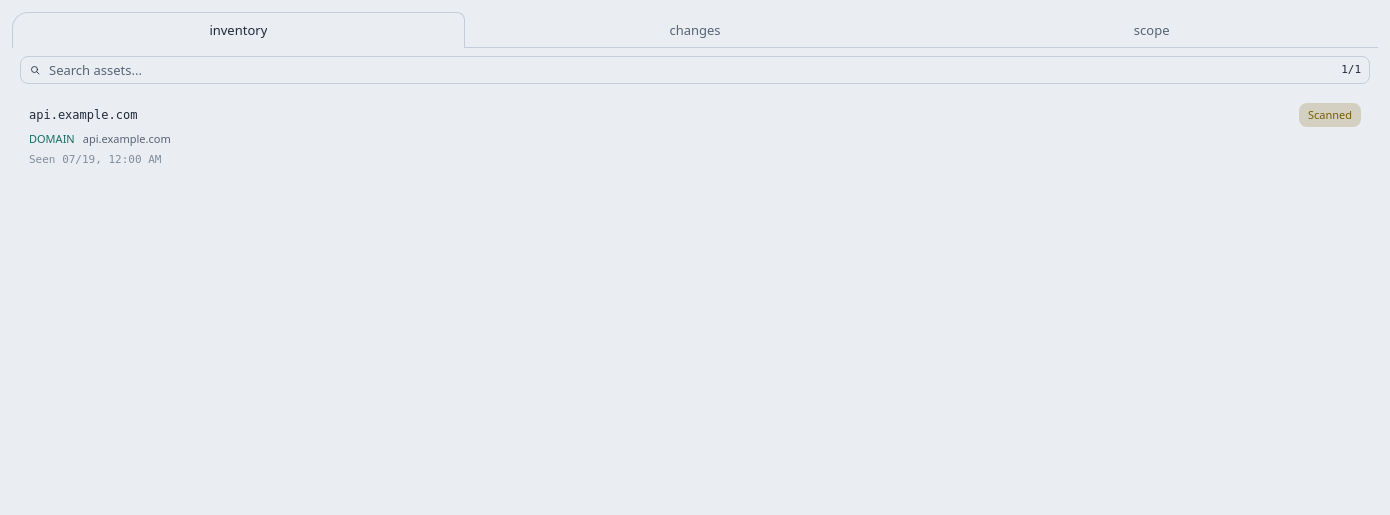
Test case: AssetWorkspaceTab › searches assets and exposes scan changes
Expected: the 1st text "api.example.com" is shown, [29, 108, 137, 122]
Focus the field named "Search assets" at {"x": 691, "y": 70}, box [49, 57, 1333, 83]
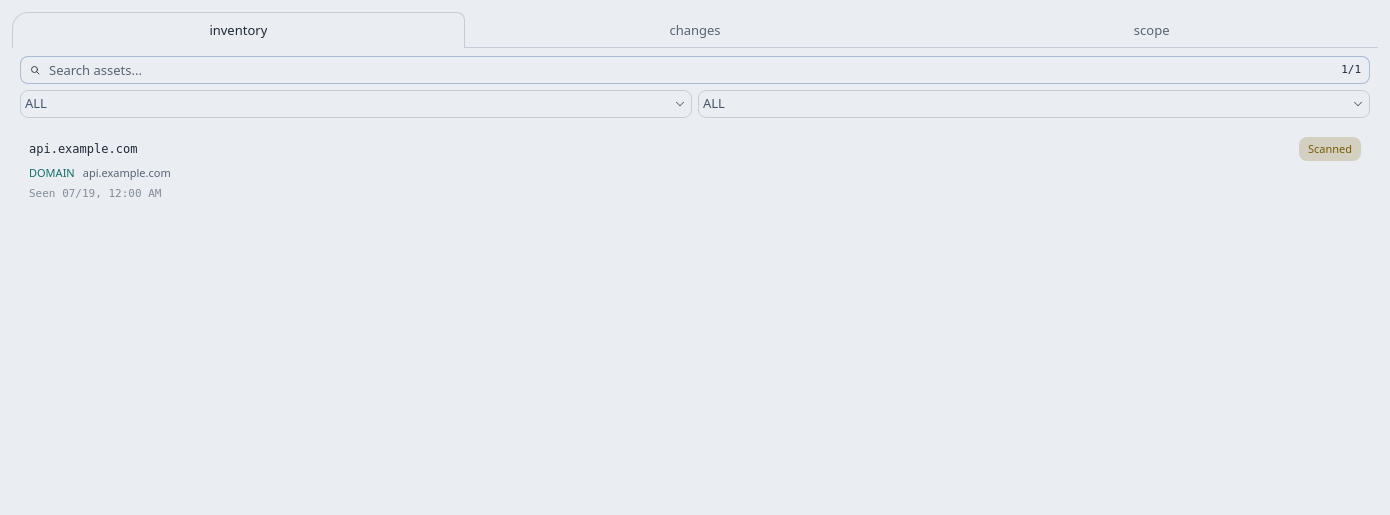
Result: the dropdown named "Filter asset type" is shown at [20, 90, 692, 118]
Type "missing" into the field named "Search assets".
click(691, 70); type("missing")  # box [49, 57, 1333, 83]
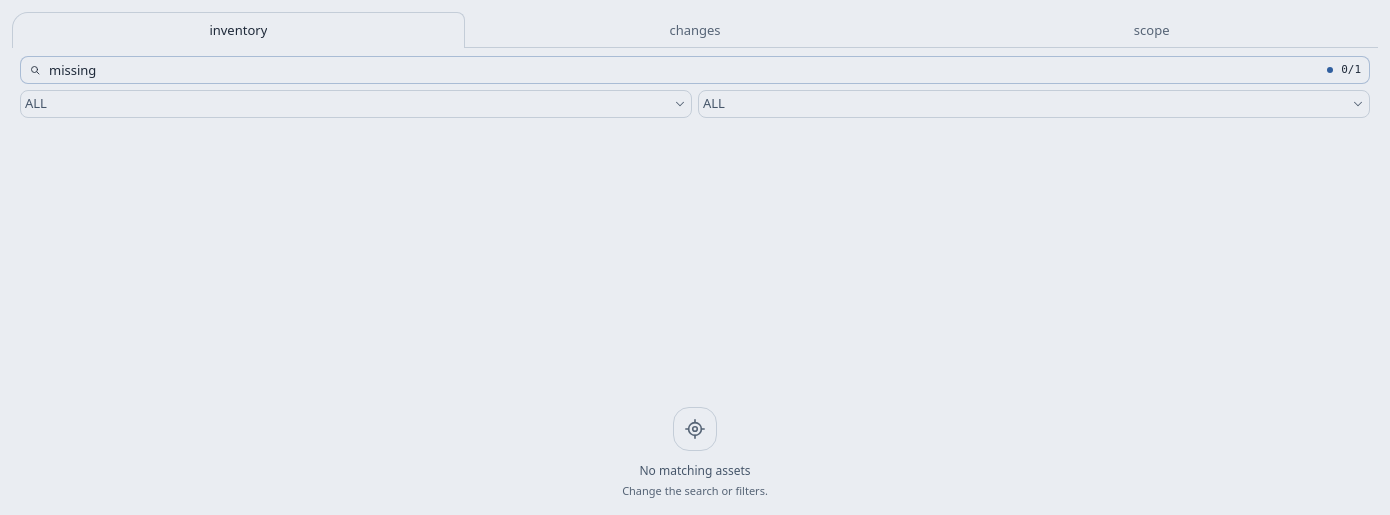
Result: the text "No matching assets" is shown at [640, 463, 751, 479]
Click the tab "changes".
click(695, 30)  # box [469, 12, 921, 48]
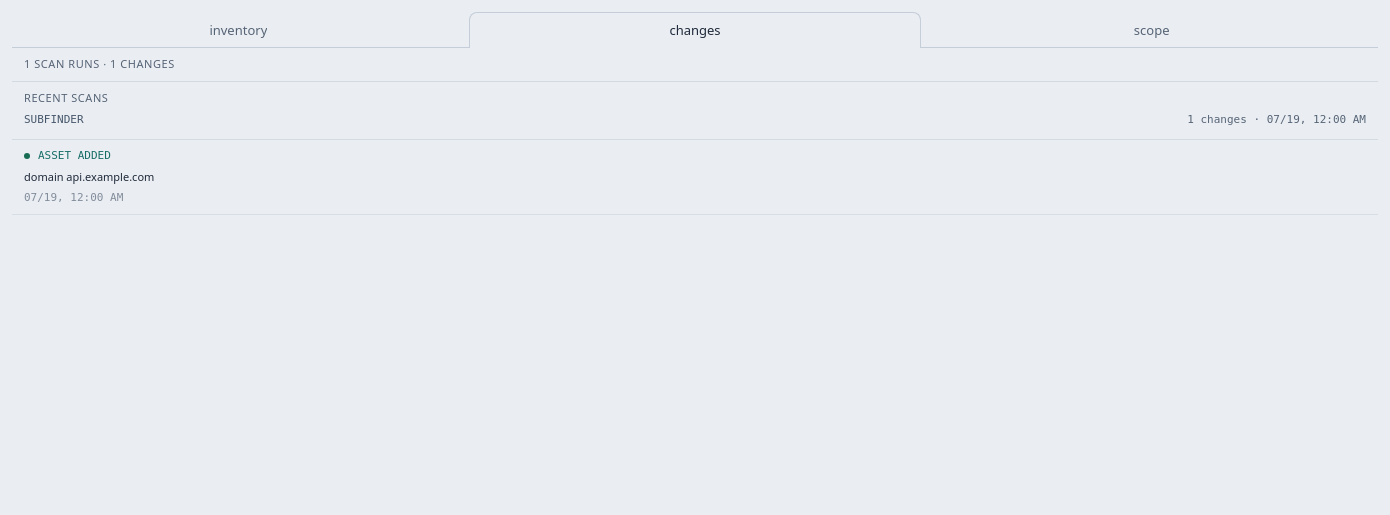
Result: the text "domain api.example.com" is shown at [24, 169, 154, 184]
Result: the text "subfinder" is shown at [24, 112, 84, 128]
